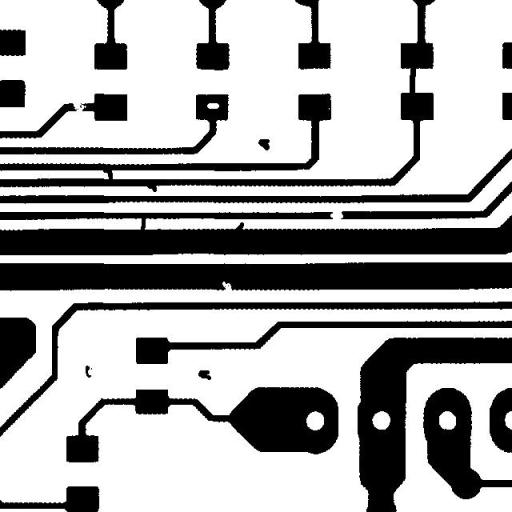copper: (250, 131, 277, 158), (190, 362, 218, 388)
mousebite: (214, 274, 240, 299)
open: (64, 93, 94, 124), (322, 202, 350, 228)
pin-hole: (200, 95, 226, 116)
short: (402, 56, 423, 102), (95, 158, 120, 188), (133, 206, 154, 238)
spur: (226, 214, 251, 241), (138, 175, 164, 199)
